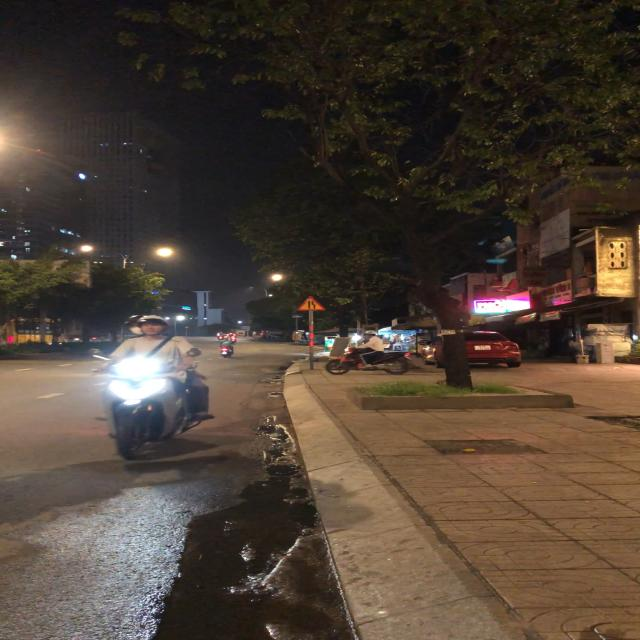Bien bao duong bi thu hep: (293, 295, 327, 312)
